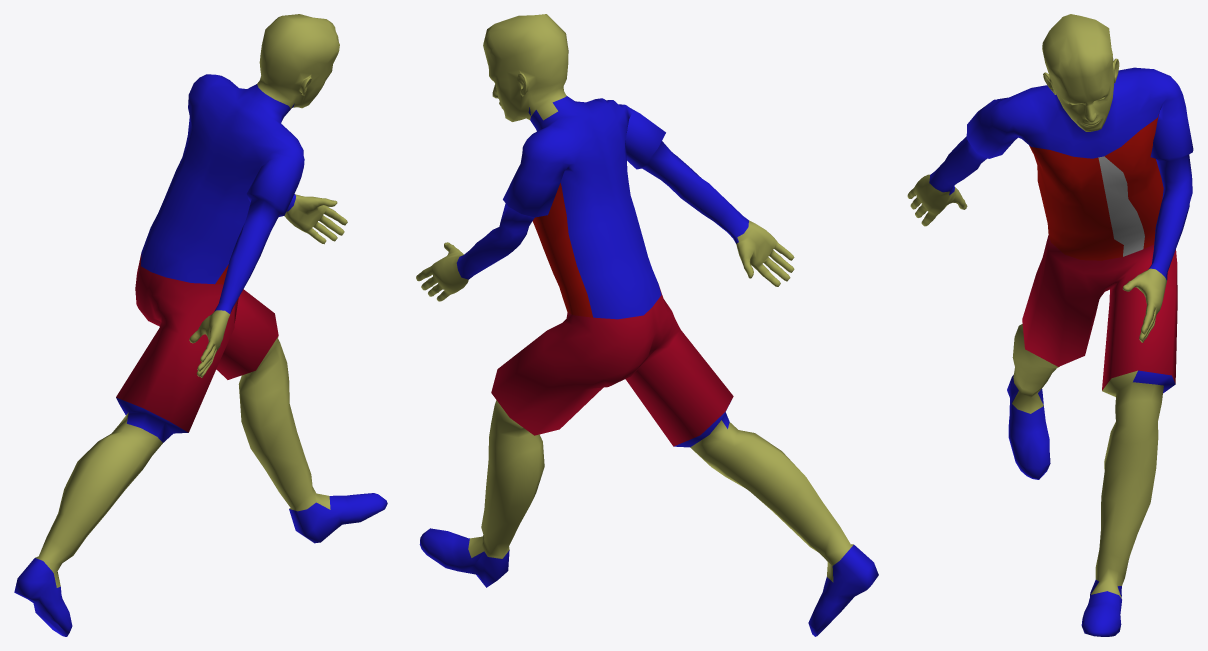
The model's file is player_000012.obj.
The picture shows the model from 3 angles, left to right: view 1: azimuth 30°, elevation 25°; view 2: azimuth 150°, elevation 25°; view 3: azimuth 270°, elevation 25°; orthographic projection. The views are drawn at different scales.
Parts seen in each view (by area): view 1: soccerplayer_mesh; view 2: soccerplayer_mesh; view 3: soccerplayer_mesh.
Boxes of the visible parts, box(x1,y1,x2,y2) form: soccerplayer_mesh: box(14, 14, 387, 636); soccerplayer_mesh: box(416, 14, 878, 636); soccerplayer_mesh: box(907, 14, 1193, 636).
Bounding box in the file's own units: 3.74 × 4.87 × 2.11.
